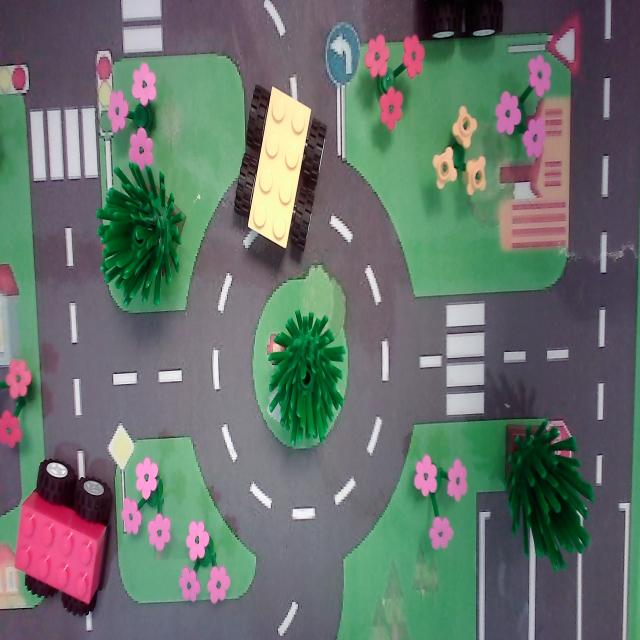Car: (13, 444, 117, 628), (228, 78, 331, 262)
Flower: (408, 431, 475, 556), (358, 28, 426, 136), (119, 440, 180, 560), (431, 100, 493, 217), (498, 55, 564, 162), (108, 59, 164, 172), (177, 505, 226, 622), (0, 334, 41, 462)
Tree: (96, 153, 194, 319), (501, 410, 599, 573), (265, 304, 350, 458)
